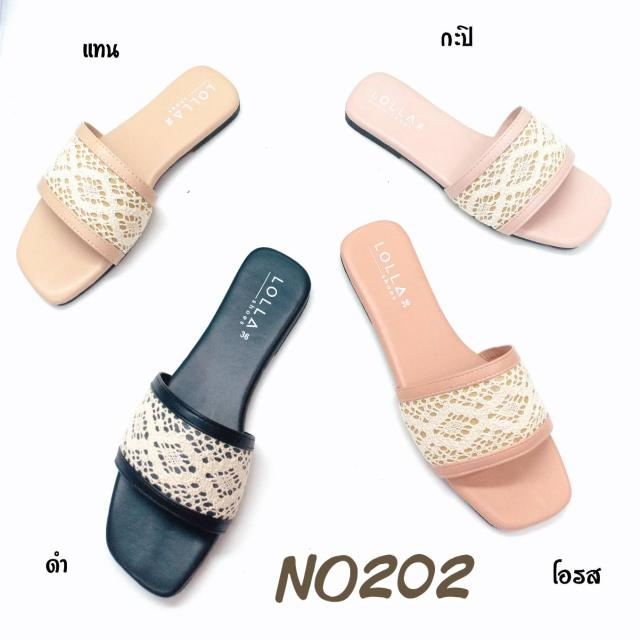black: (102, 234, 321, 608)
kapi: (316, 53, 623, 263)
orot: (348, 213, 581, 547)
tan: (0, 72, 256, 306)
